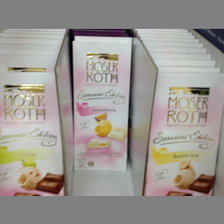chocolate: (144, 70, 224, 198), (1, 71, 66, 196), (72, 41, 133, 171)
